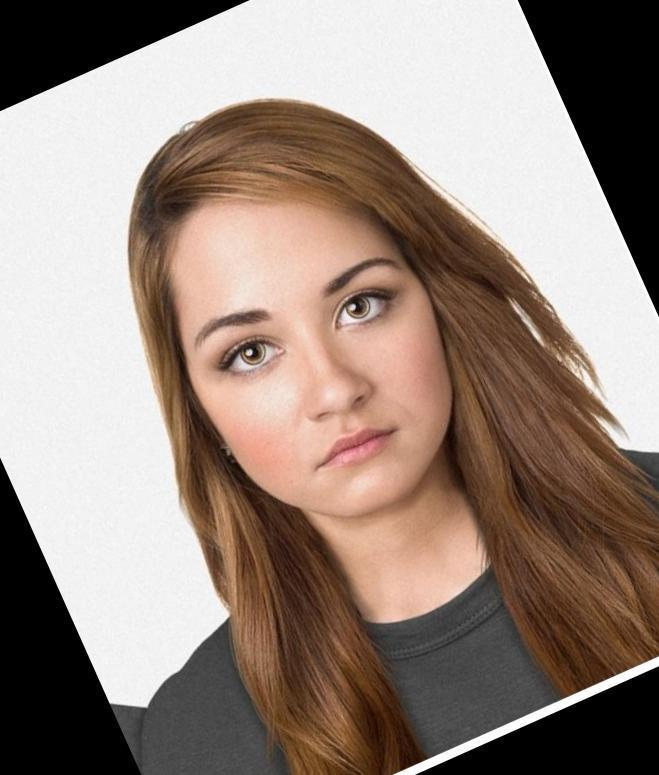Sober: (182, 209, 450, 476)
